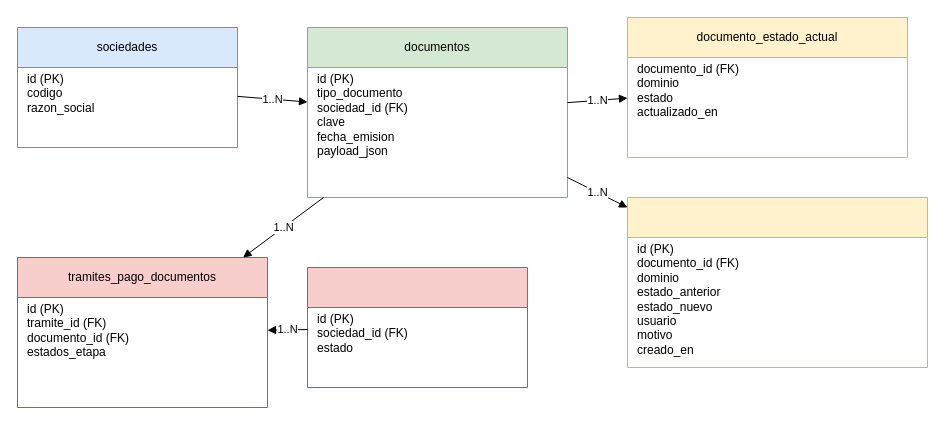
Some shapes in this 945 by 425 pixel diagram are drawn without their labels. The box of each missing label's shape, as (x1, y1, x2, y2) in pixels:
documento_estado_historial: (626, 196, 928, 368)
tramites_pago: (306, 266, 528, 388)
